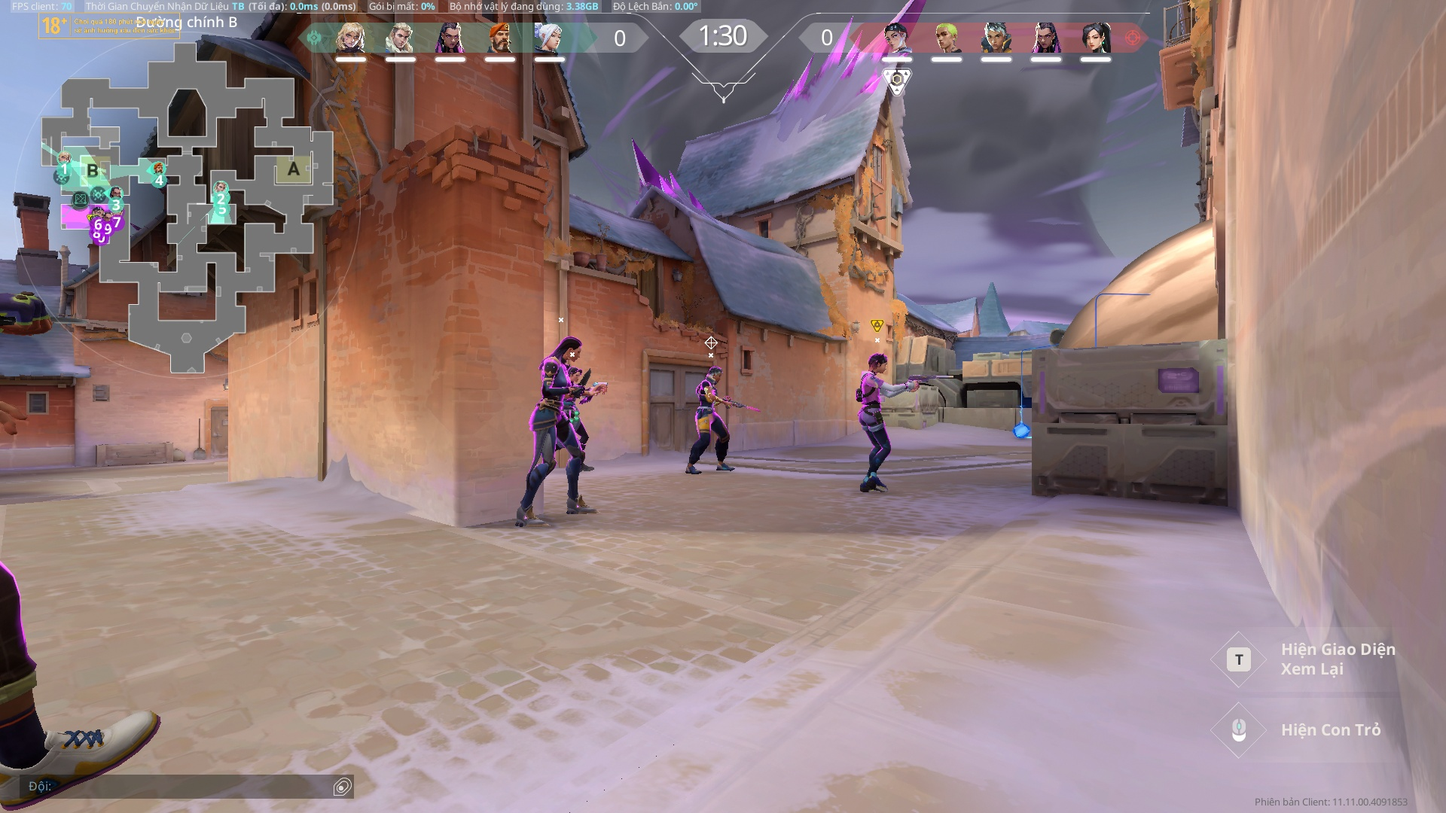body: (536, 353, 571, 407), (859, 370, 886, 406), (697, 377, 718, 407), (564, 394, 578, 407)
head: (557, 333, 582, 359), (868, 353, 887, 372), (569, 365, 582, 382), (707, 367, 721, 382)
